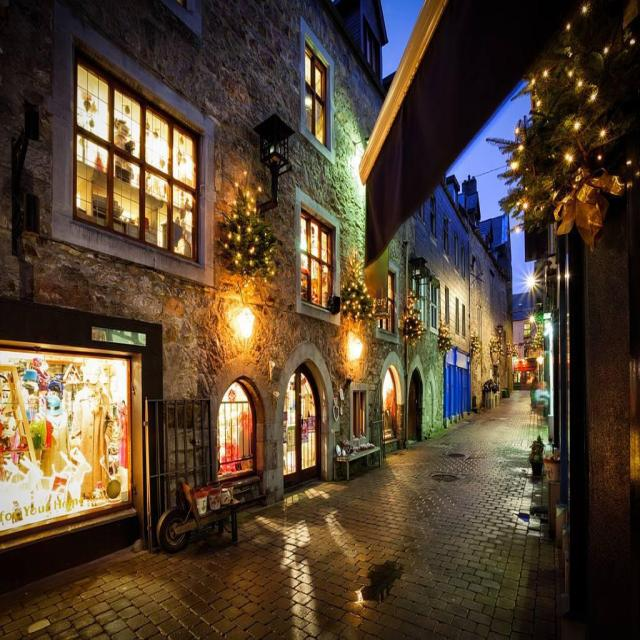other: (227, 286, 262, 352), (518, 264, 546, 305), (344, 328, 370, 365)
